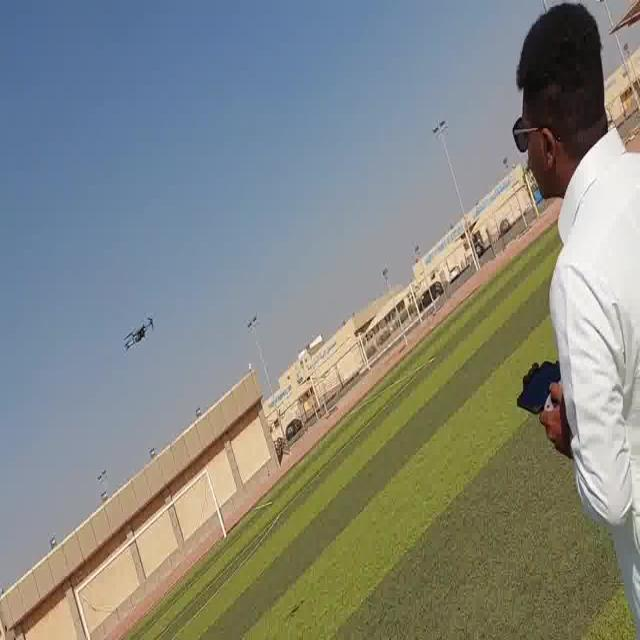drone: (120, 311, 160, 351)
